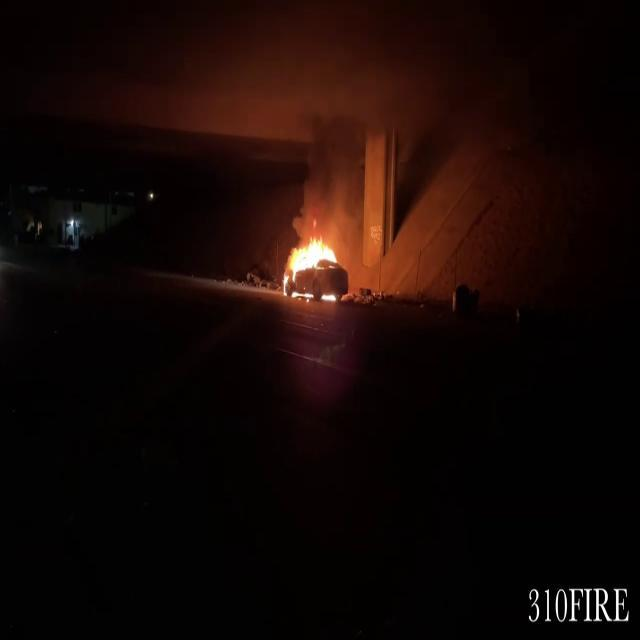Fire: (278, 226, 346, 304)
Smoke: (298, 110, 372, 236)
